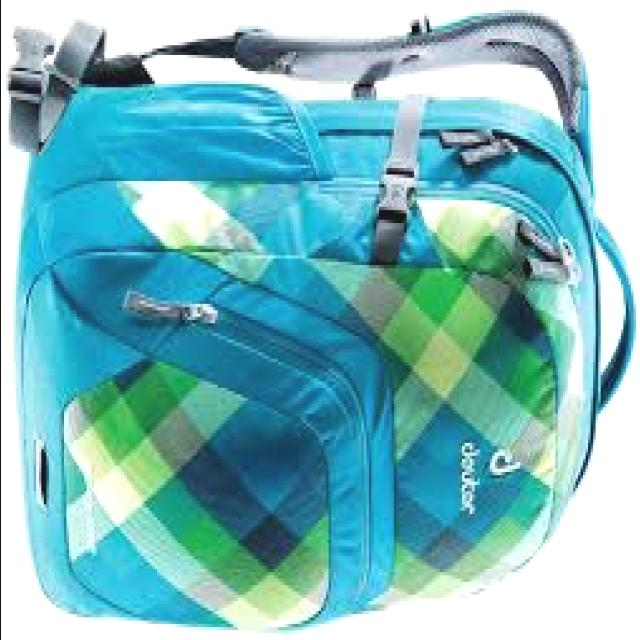backpack: (9, 11, 639, 635)
